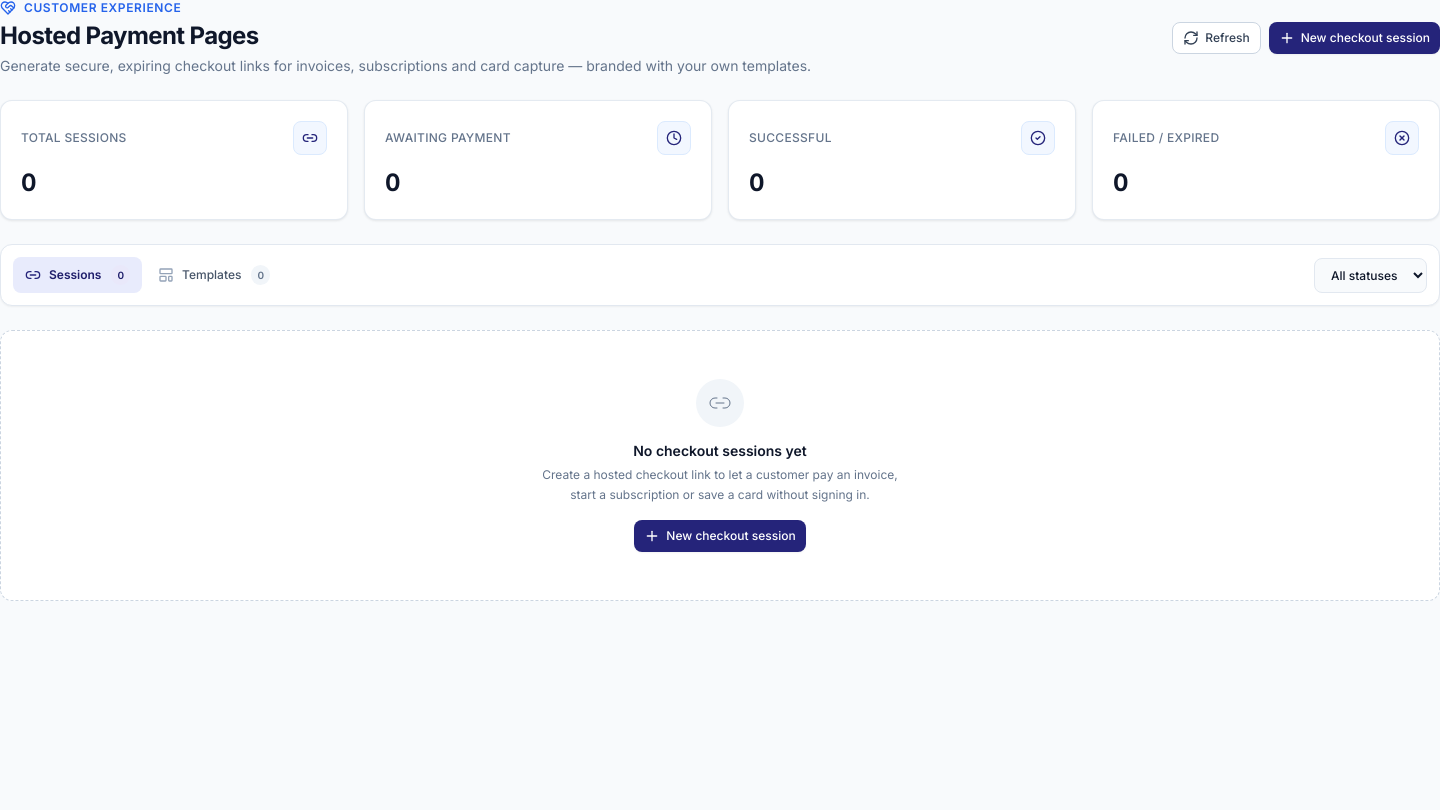
Test: <HostedPaymentPagesPage /> new checkout session › lists only payable invoices in the invoice picker
Click the button "New checkout session" in the row of "Hosted Payment Pages": (1354, 38) [1269, 22, 1439, 54]
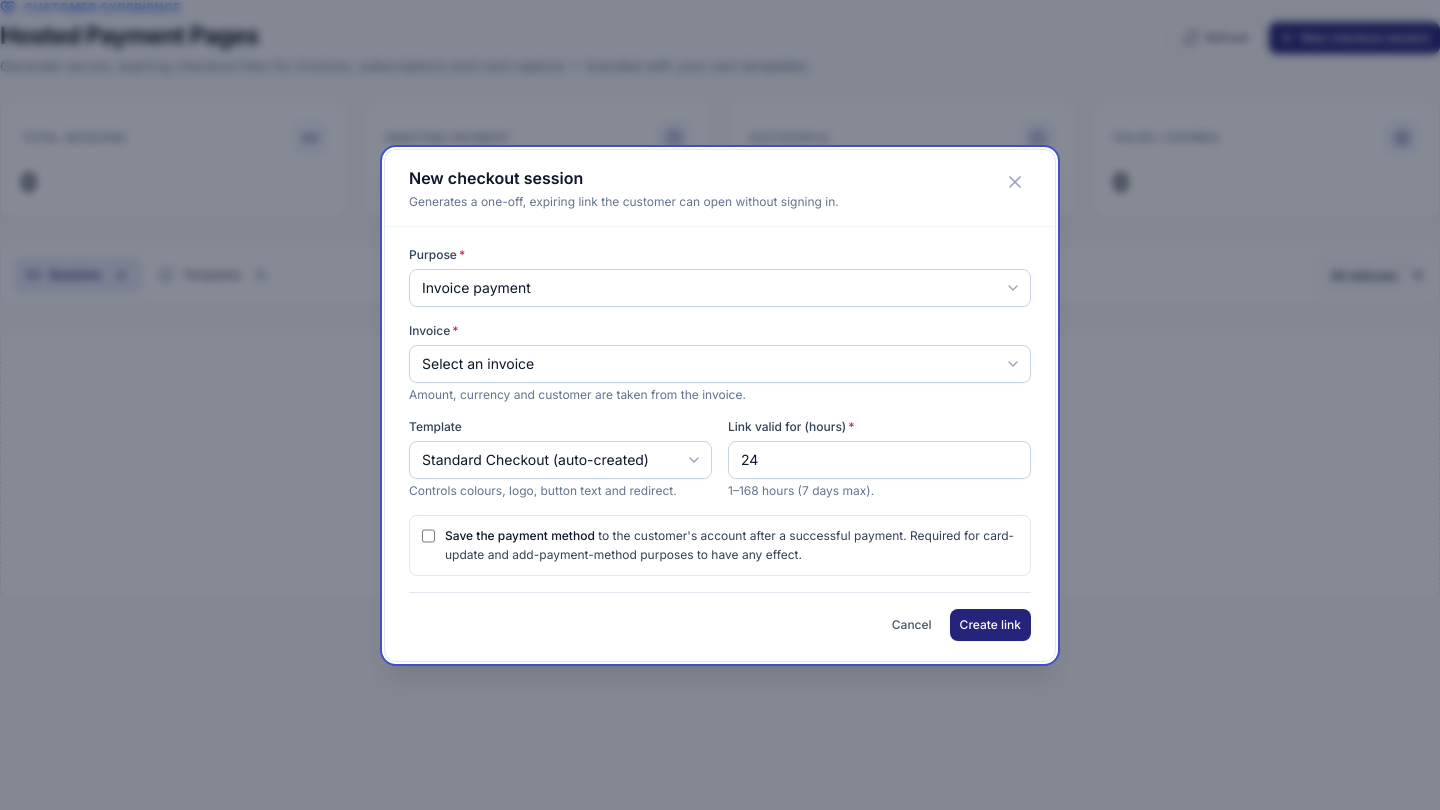
Expected: the dropdown labelled "Invoice*" is enabled, [409, 344, 1031, 382]
